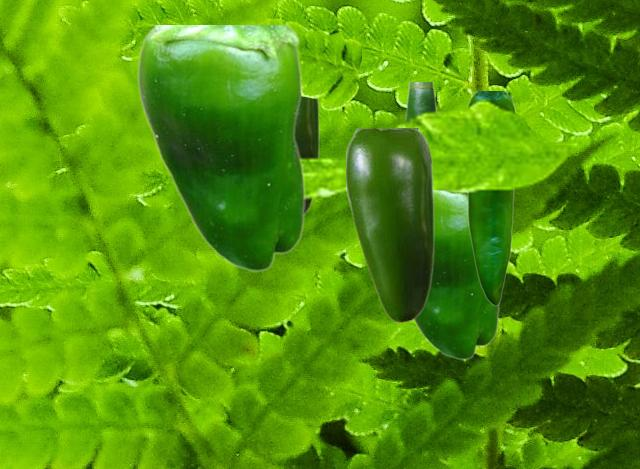green_chili: (136, 25, 304, 271), (346, 128, 433, 322), (413, 191, 498, 359), (467, 91, 515, 304), (297, 98, 318, 215), (405, 82, 435, 118)
